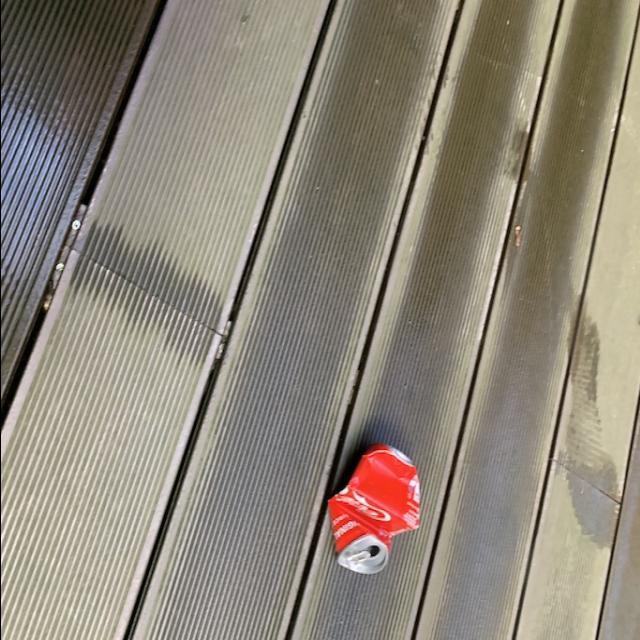litter: (322, 442, 422, 574)
